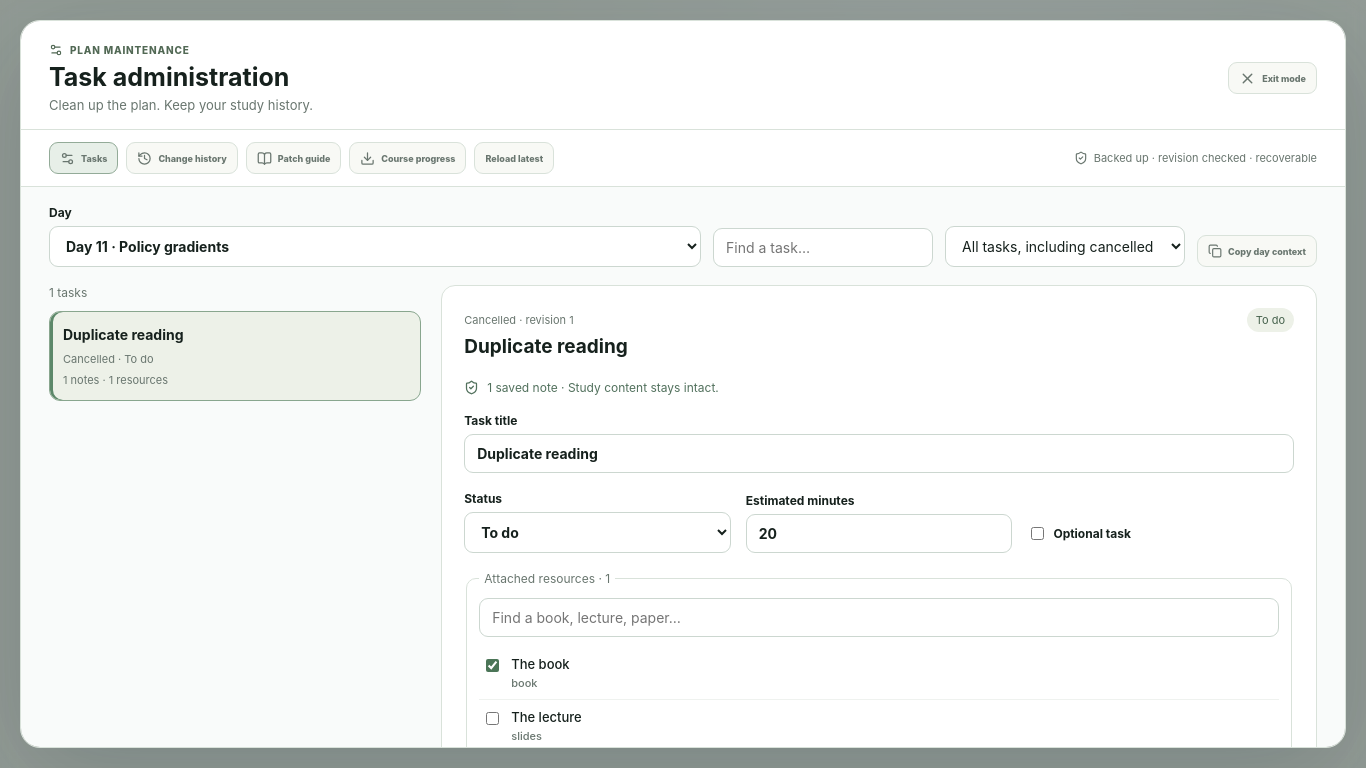
attaches resources, clears minutes, and previews cancellation
Later steps or results of the test are not shown.
Step 1. Click the checkbox labelled "The lecture slides" → (493, 718), box [486,712,499,724]
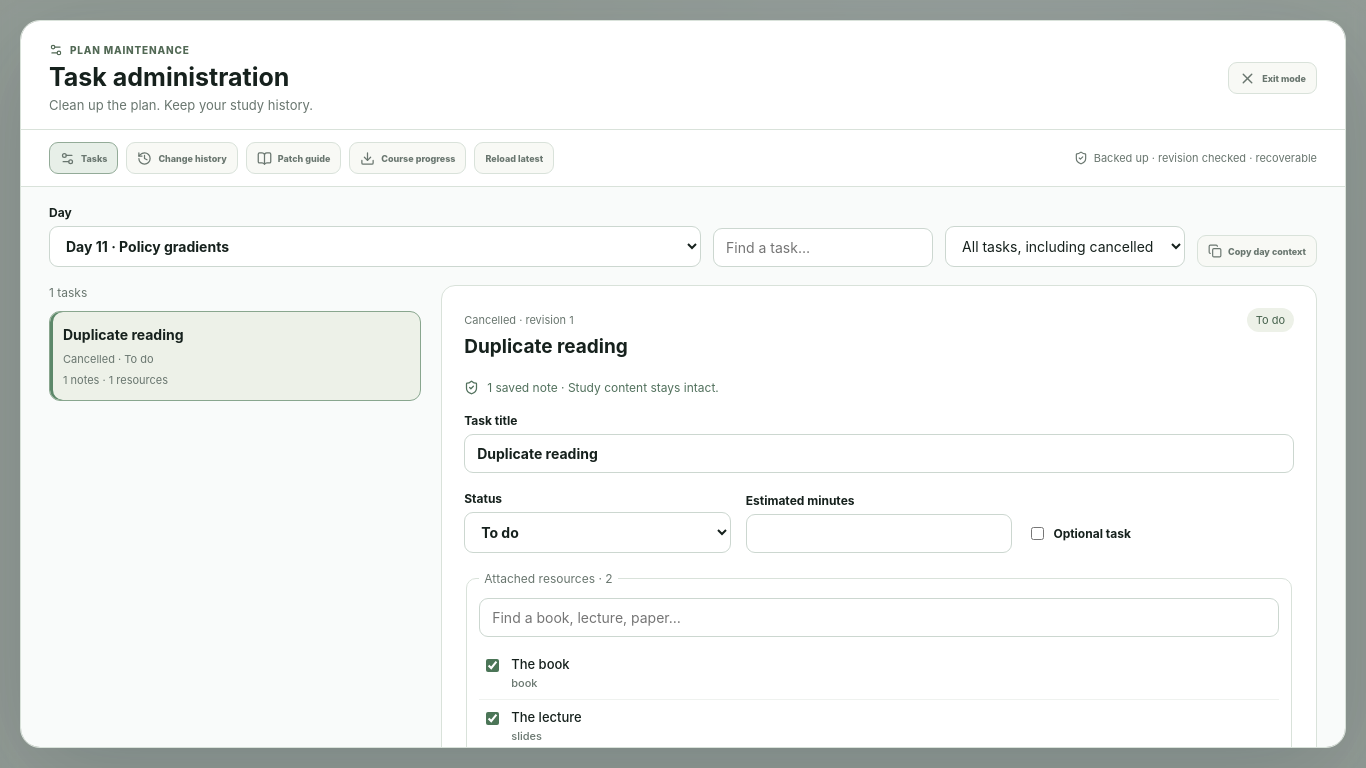
Step 2. Clear the number field labelled "Estimated minutes" → (879, 533), box [746,514,1012,552]
(page scrolled)
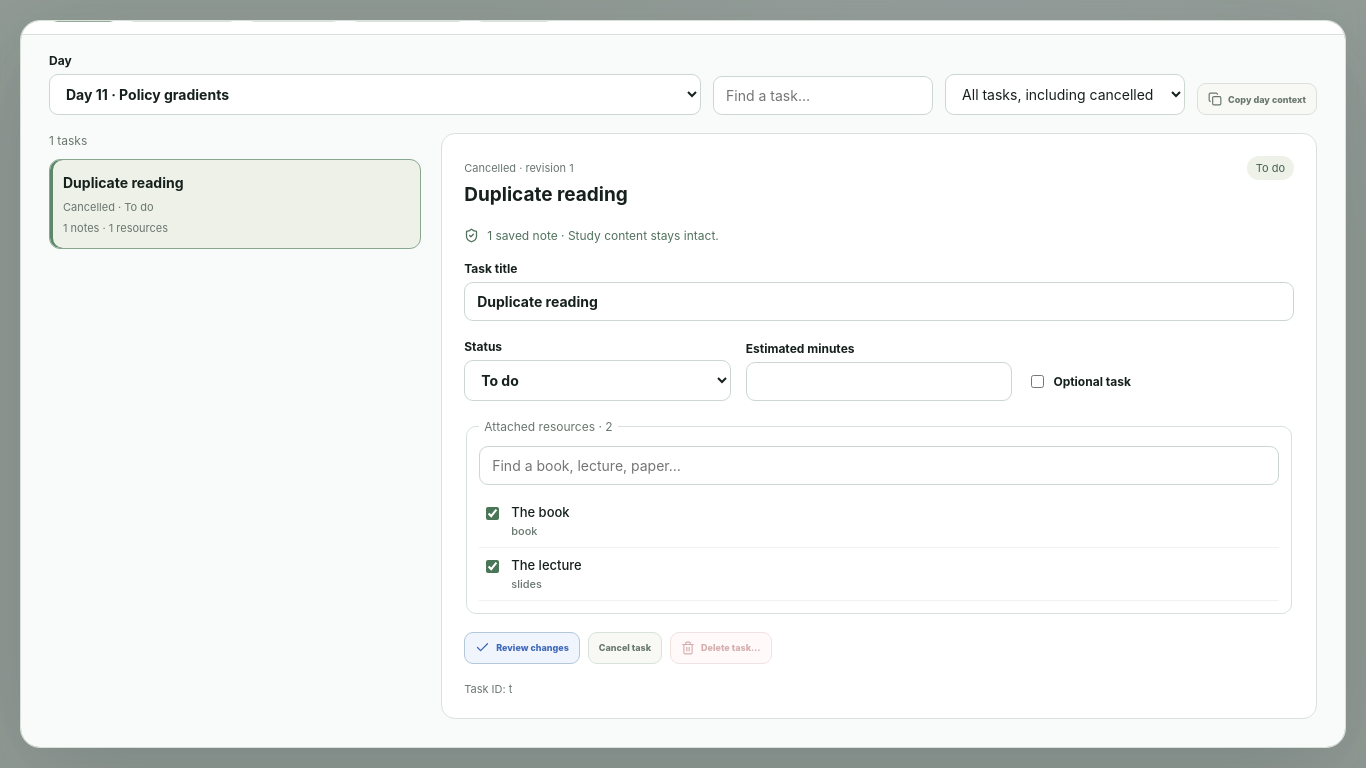
Now the button "Cancel task" is shown
Step 3. Click the button "Cancel task" → (625, 648), box [588,632,662,664]
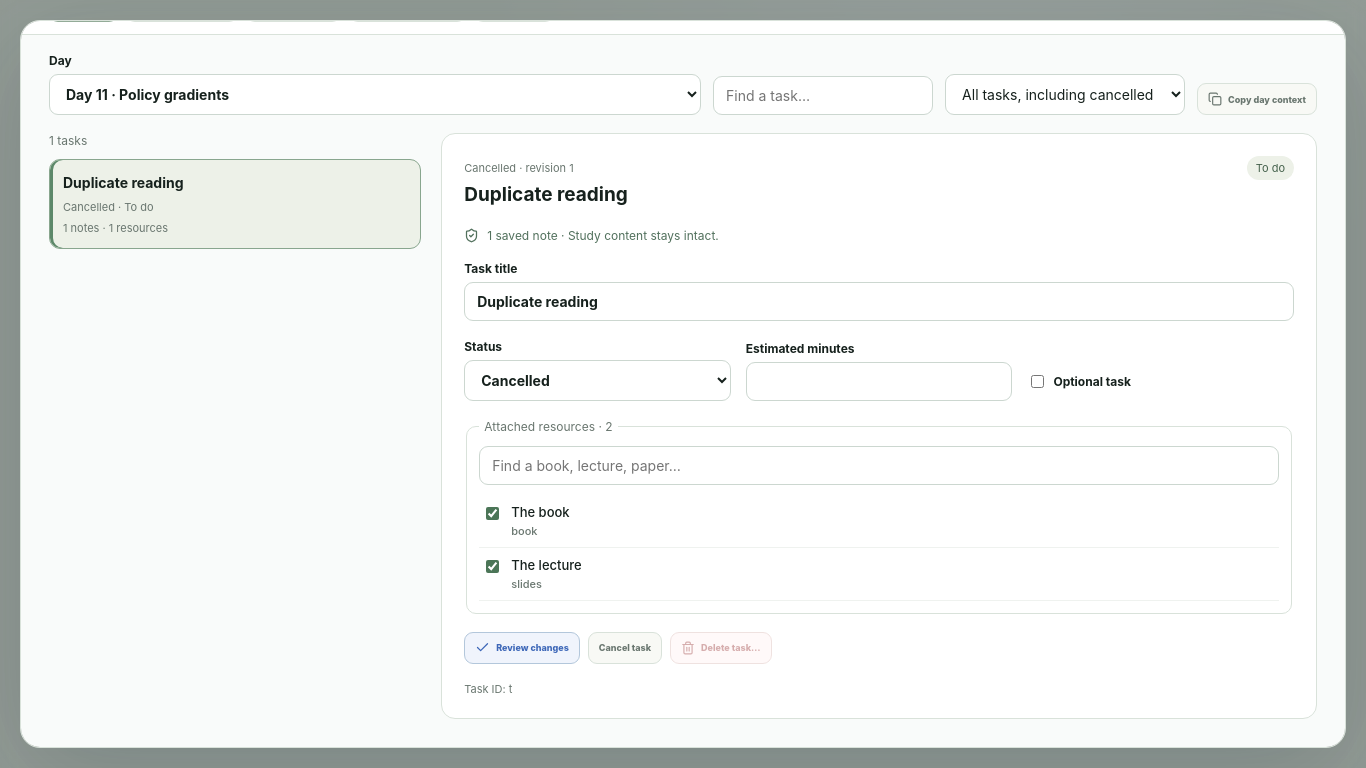
Now the button "Review changes" is shown
Step 4. Click the button "Review changes" → (522, 648), box [464,632,580,664]
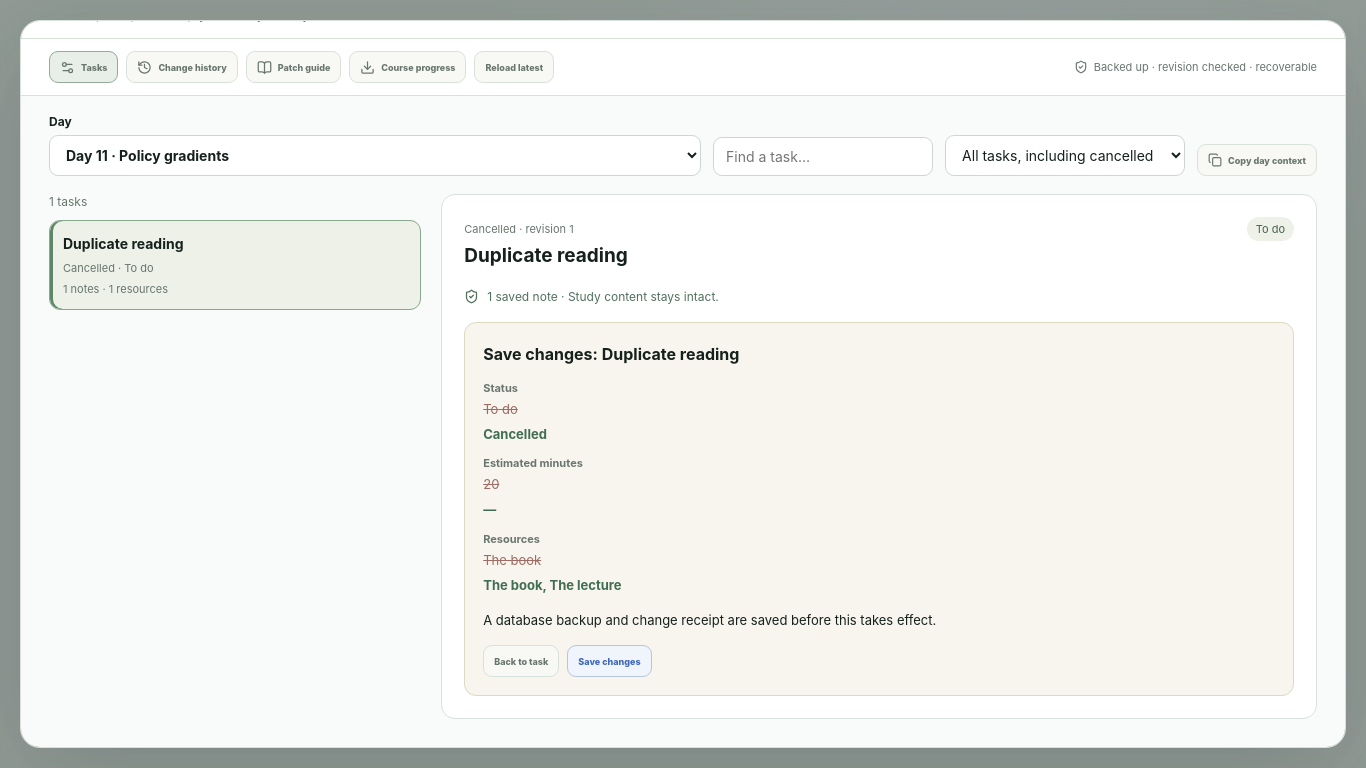
Now the button "Save changes" is shown, box [567,645,652,677]
